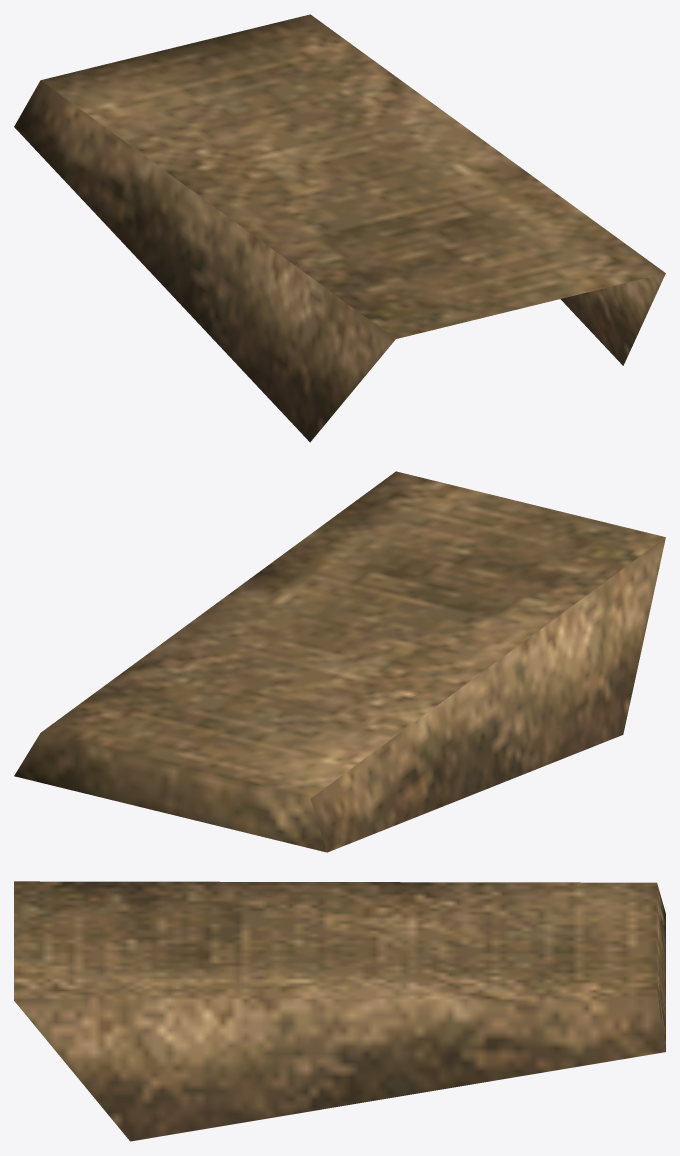
The model's file is stbuho41.dae.
The picture shows the model from 3 angles, top to bottom: view 1: azimuth 30°, elevation 25°; view 2: azimuth 150°, elevation 25°; view 3: azimuth 270°, elevation 25°; orthographic projection. The views are drawn at different scales.
Parts seen in each view (by area): view 1: base2; view 2: base2; view 3: base2.
Part boxes in pixels (x1=…): base2: x1=14, y1=14, x2=665, y2=442; base2: x1=14, y1=471, x2=665, y2=852; base2: x1=14, y1=881, x2=665, y2=1141.
Size of the model in its own units: 4.33 by 8.64 by 1.92.
Materials: 1 (1 with a texture image).
